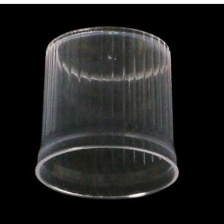glass: (30, 19, 187, 206)
